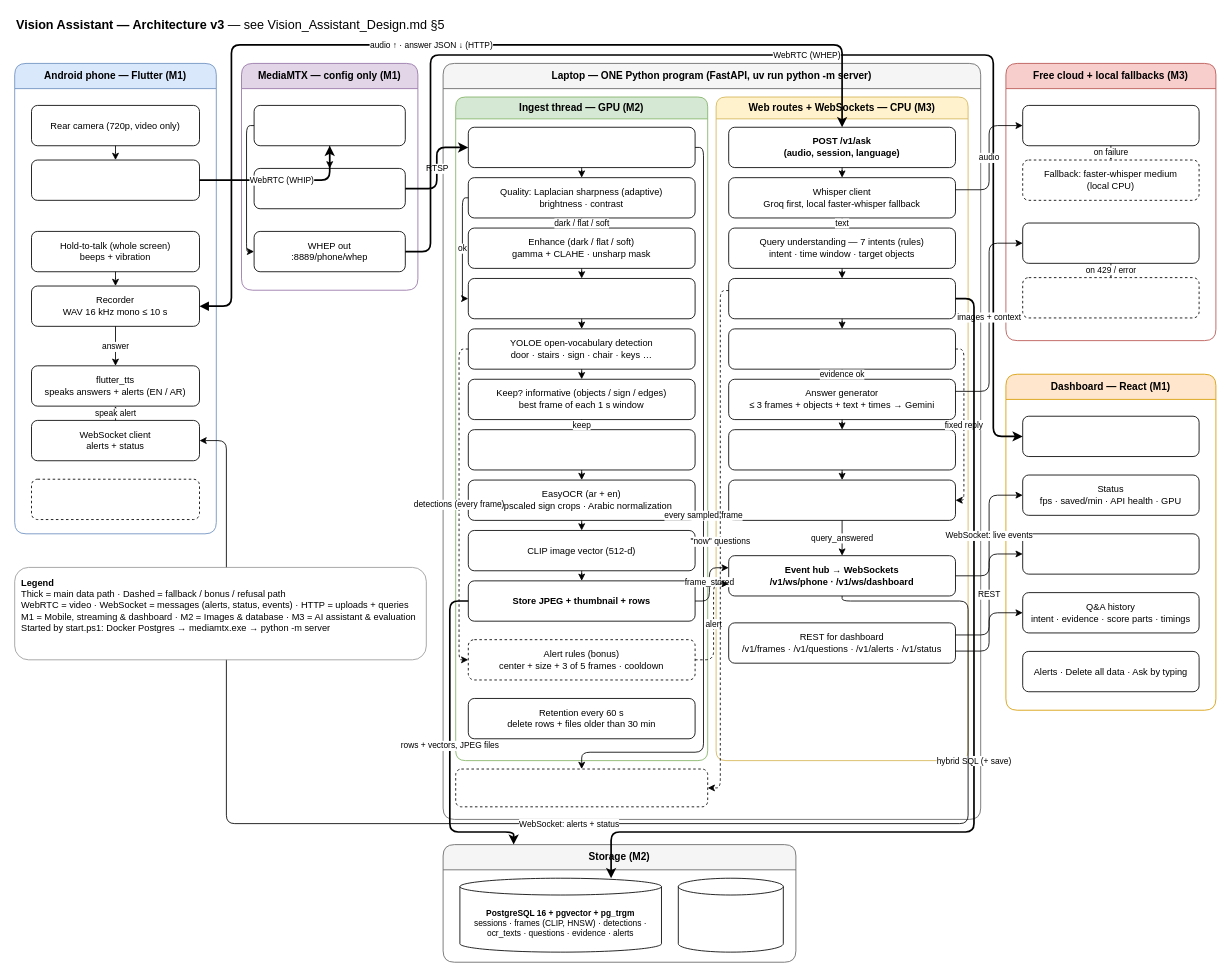
Some shapes in this 1231 by 977 pixel diagram are drawn without their labels. Here are the shapes that lost their labels. From the top down, the centre of each, then its label:
(x=329, y=125): WHIP in :8889/phone/whip
(x=1110, y=125): Groq Whisper large-v3-turbo (free tier)
(x=581, y=147): RTSP reader newest frame, sample 5 Hz
(x=115, y=179): flutter_webrtc WHIP publisher (H.264)
(x=329, y=188): RTSP out rtsp://localhost:8554/phone
(x=1110, y=242): Gemini 3.6 Flash (free tier, JSON output)
(x=581, y=298): New? dHash Hamming distance (or new objects / 10 s heartbeat)
(x=842, y=298): Hybrid retrieval + ranking time + CLIP + OCR text + objects + recency
(x=1110, y=297): Fallback: Flash-Lite → template answer from DB
(x=842, y=348): Evidence gate weak / refused → fixed reply (no Gemini call)
(x=581, y=449): Face blur — YuNet detector (no recognition)
(x=842, y=449): Safety filter "not sure" wording · never "safe" · same language
(x=1110, y=436): Live video (WHEP player) + object box overlay
(x=115, y=499): Consent · TalkBack labels · wakelock reconnect · spoken errors
(x=842, y=499): Save question + evidence + timings → answer JSON to phone
(x=1110, y=553): Timeline + search time · text · object · meaning
(x=581, y=787): Live buffer — last 10 frames (in memory)
(x=730, y=914): JPEG folder frames · thumbs · originals
